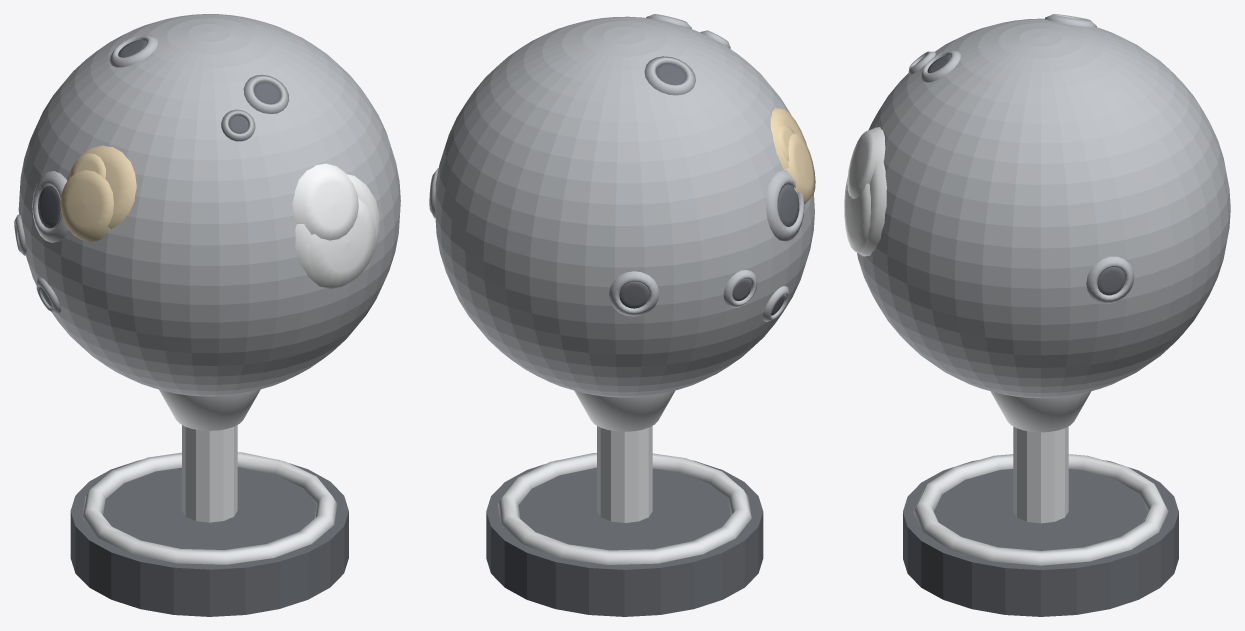
File: solar-system-and-astronauts-dwarf-planet-model-1157313e__39238.glb
3 views of the same model, side by side, from view 1: azimuth 30°, elevation 25°; view 2: azimuth 150°, elevation 25°; view 3: azimuth 270°, elevation 25° (orthographic).
Visible parts, largest first — view 1: dwarf-planet-model; view 2: dwarf-planet-model; view 3: dwarf-planet-model.
Boxes of the visible parts, x1,y1,x2,y2 form: dwarf-planet-model: [14, 14, 400, 616]; dwarf-planet-model: [429, 14, 815, 616]; dwarf-planet-model: [844, 14, 1230, 616].
Bounding box in the file's own units: 0.2225 × 0.3338 × 0.224.
